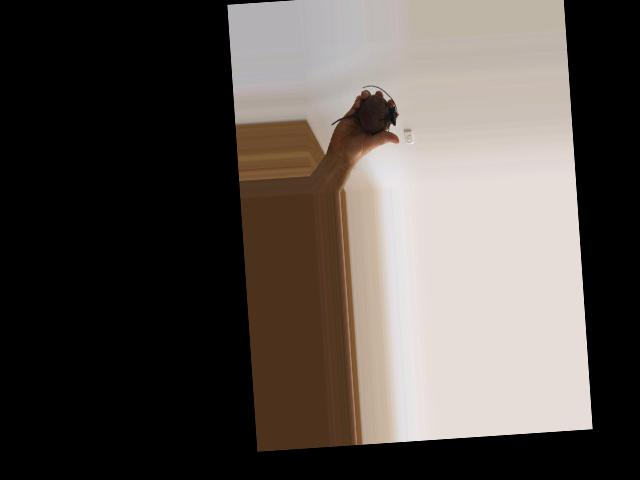beet: (328, 83, 399, 135)
